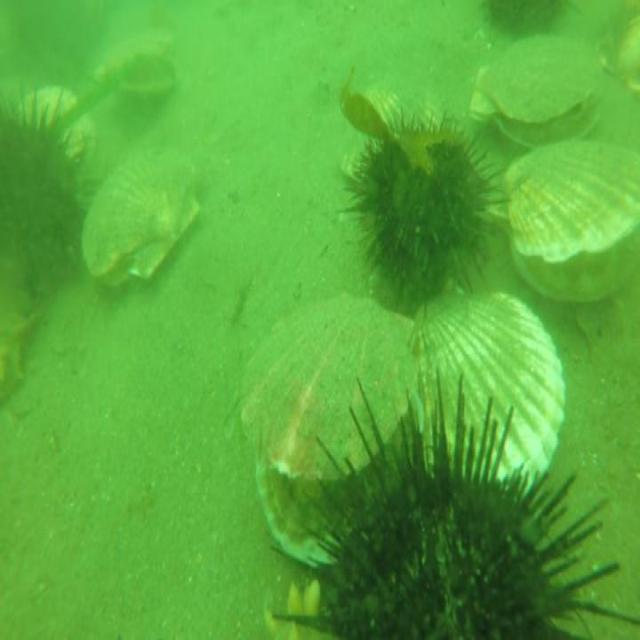echinus: (269, 366, 639, 640), (356, 107, 500, 300), (0, 84, 81, 303)
scallop: (238, 286, 422, 574), (411, 280, 568, 494), (502, 133, 640, 308), (84, 147, 206, 288), (469, 32, 606, 150), (343, 65, 445, 202), (91, 31, 188, 106), (19, 74, 78, 124), (115, 376, 124, 381)
